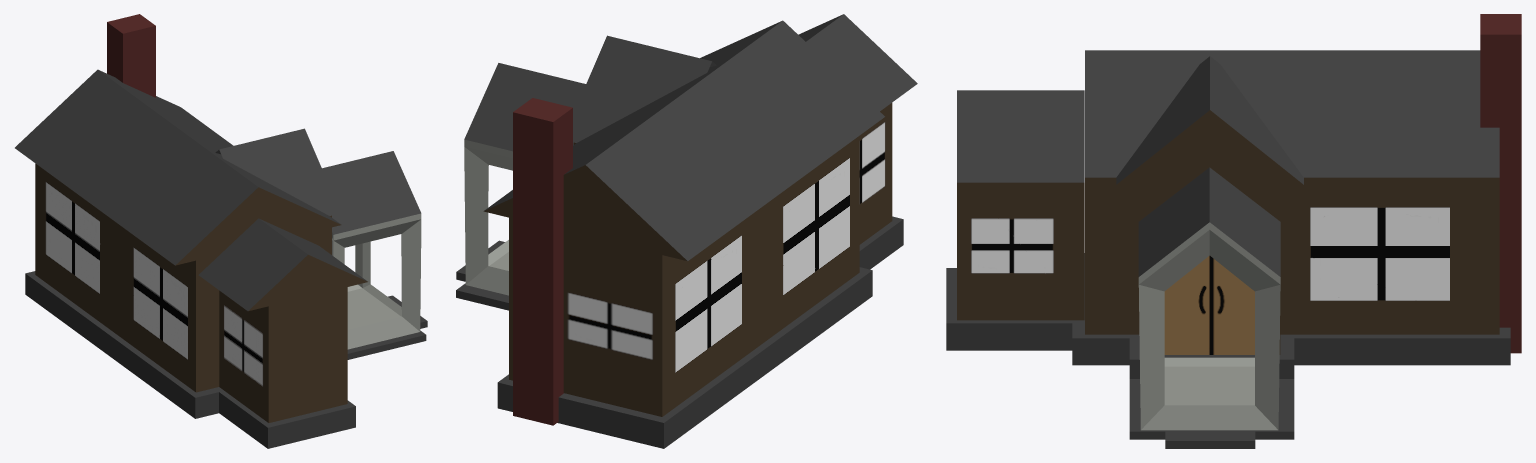
The model's file is house.fbx.
3 renders of one model, left to right at view 1: azimuth 30°, elevation 25°; view 2: azimuth 150°, elevation 25°; view 3: azimuth 270°, elevation 25°, orthographic. The views are drawn at different scales.
Parts seen in each view (by area): view 1: House, Porch, Foundation; view 2: House, Foundation, Porch; view 3: House, Porch, Foundation.
Boxes of the visible parts, x1,y1,x2,y2 form: House: [15, 14, 367, 422]; Porch: [322, 151, 421, 349]; Foundation: [25, 271, 427, 448]; House: [483, 14, 917, 425]; Foundation: [456, 216, 903, 448]; Porch: [464, 63, 585, 295]; House: [957, 14, 1521, 354]; Porch: [1138, 167, 1280, 430]; Foundation: [946, 253, 1510, 448].
Size of the model in its own units: 450 by 376 by 613.
4 materials, 1 textured.
